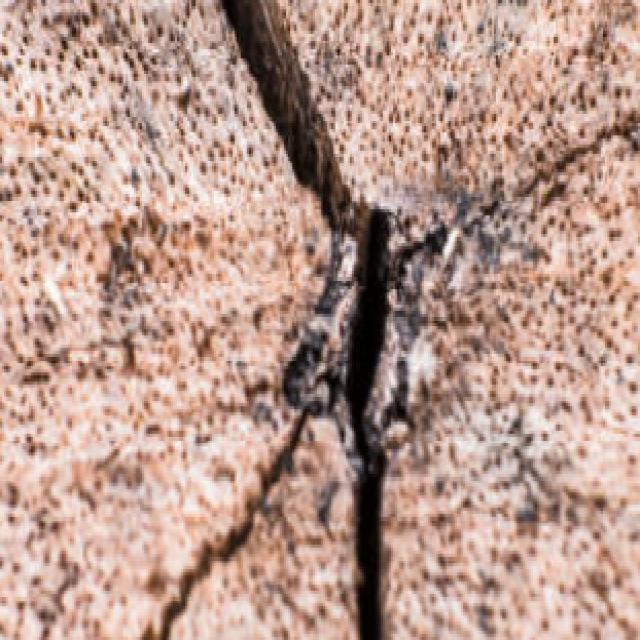branched cracks: (142, 0, 639, 639)
